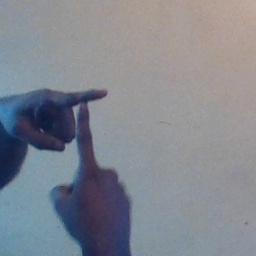T: (21, 82, 142, 206)
